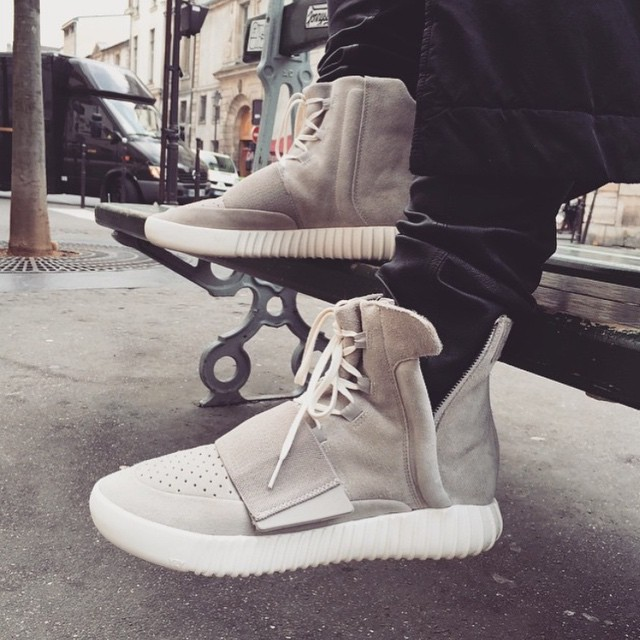sneaker: (60, 241, 553, 608), (128, 51, 444, 282)
